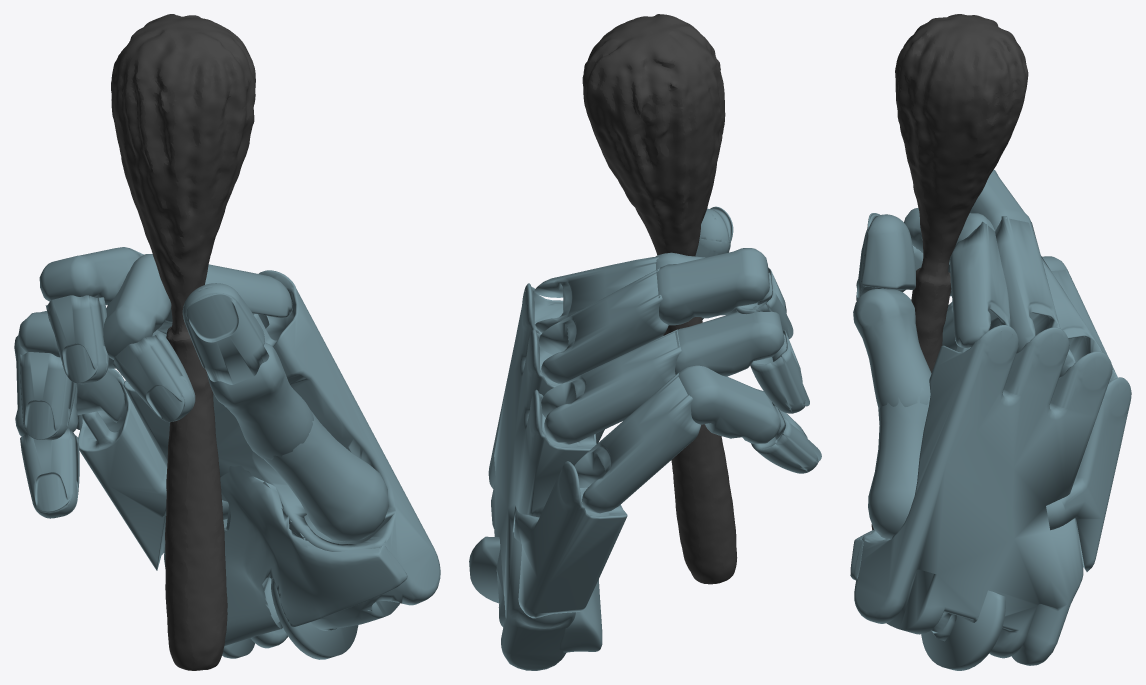
3 views of the same model, side by side, from view 1: azimuth 30°, elevation 25°; view 2: azimuth 150°, elevation 25°; view 3: azimuth 270°, elevation 25° (orthographic). The views are drawn at different scales.
Parts seen in each view (by area): view 1: world; view 2: world; view 3: world.
Boxes of the visible parts, left/top/right/bottom form: world: left=14, top=14, right=440, bottom=670; world: left=469, top=14, right=821, bottom=670; world: left=850, top=14, right=1131, bottom=670.
Size of the model in its own units: 0.1332 by 0.231 by 0.0977.
Materials: 1 (1 with a texture image).
